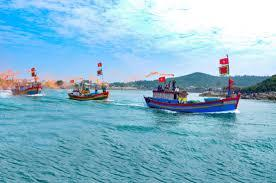Ship: (145, 78, 241, 113), (69, 79, 109, 101), (13, 68, 43, 96)
